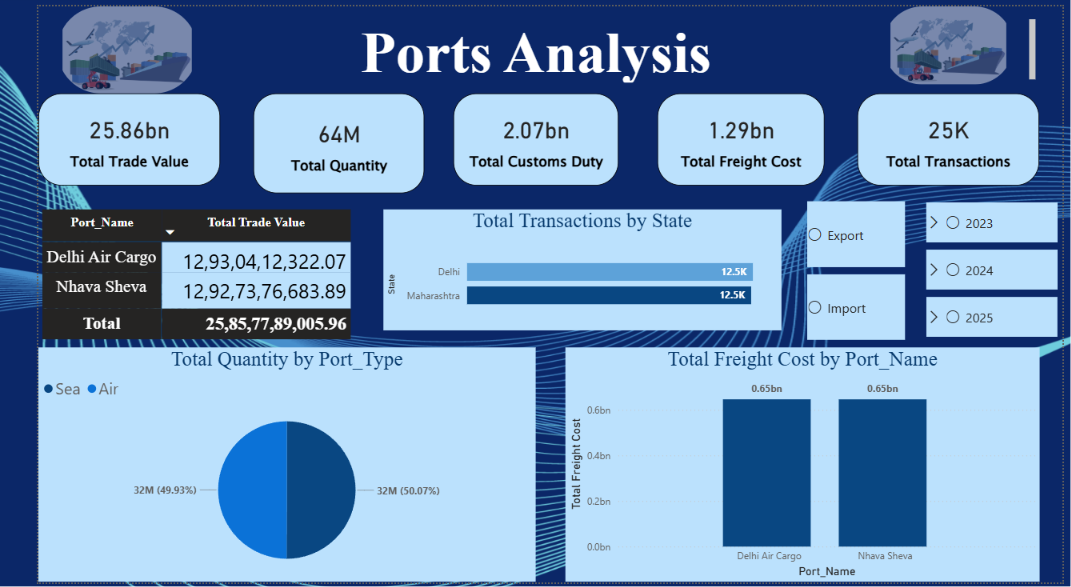

Layout of this report page (visuals, bound fields, positions):
{"tool":"powerbi","page":{"name":"Ports Analysis","canvas":[1280,720],"ordinal":4},"visuals":[{"type":"card","fields":{"Values":["Companies.Total Trade Value"]},"box":[0,108.8,227.4,114.9],"z":0},{"type":"card","fields":{"Values":["Companies.Total Quantity"]},"box":[269,108.8,214,124.7],"z":1000},{"type":"card","fields":{"Values":["Companies.Total Customs Duty"]},"box":[518.5,108.8,206.7,114.9],"z":2000},{"type":"card","fields":{"Values":["Companies.Total Freight Cost"]},"box":[774.1,108.8,209.1,114.9],"z":3000},{"type":"card","fields":{"Values":["Companies.Total Transactions"]},"box":[1023.5,108.8,227.4,114.9],"z":4000},{"type":"textbox","box":[0,11.2,1251.2,88.8],"z":5000},{"type":"pivotTable","fields":{"Rows":["Ports.Port_Name"],"Values":["Companies.Total Trade Value"]},"box":[0,233.8,412.5,192.5],"z":6000},{"type":"pieChart","fields":{"Category":["Ports.Port_Type"],"Y":["Companies.Total Quantity"]},"box":[0,426.7,621.5,293],"z":7000},{"type":"clusteredBarChart","fields":{"Category":["Ports.State"],"Y":["Companies.Total Transactions"]},"box":[431.2,253.8,497.5,151.2],"z":8000},{"type":"columnChart","fields":{"Category":["Ports.Port_Name"],"Y":["Companies.Total Freight Cost"]},"box":[658.5,426.7,593.1,293],"z":9000},{"type":"listSlicer","fields":{"Values":["Trade_Transactions_25000.Trade_Date.Variation.Date Hierarchy.Year","Trade_Transactions_25000.Trade_Date.Variation.Date Hierarchy.Quarter","Trade_Transactions_25000.Trade_Date.Variation.Date Hierarchy.Month","Trade_Transactions_25000.Trade_Date.Variation.Date Hierarchy.Day"]},"box":[1105.2,225.1,174.6,210.6],"z":10000},{"type":"listSlicer","fields":{"Values":["Trade_Transactions_25000.Trade_Type"]},"box":[956.6,223.6,132.7,215],"z":11000},{"type":"image","box":[23.8,0,175,108.8],"z":11001},{"type":"image","box":[1056.2,0,162.5,97.5],"z":11002}]}

Visuals, with their boxes in screenshot pixels (x1, y1, x2, y2), scaled from the page's 1280x720 canvas onto the 1071x587 screenshot:
card - Companies.Total Trade Value: 0 89 190 182
card - Companies.Total Quantity: 225 89 404 190
card - Companies.Total Customs Duty: 434 89 607 182
card - Companies.Total Freight Cost: 648 89 823 182
card - Companies.Total Transactions: 856 89 1047 182
textbox: 0 9 1047 82
pivotTable - Ports.Port_Name x Companies.Total Trade Value: 0 191 345 348
pieChart - Ports.Port_Type x Companies.Total Quantity: 0 348 520 586
clusteredBarChart - Ports.State x Companies.Total Transactions: 361 207 777 330
columnChart - Ports.Port_Name x Companies.Total Freight Cost: 551 348 1047 586
listSlicer - Trade_Transactions_25000.Trade_Date.Variation.Date Hierarchy.Year x Trade_Transactions_25000.Trade_Date.Variation.Date Hierarchy.Quarter: 925 184 1070 355
listSlicer - Trade_Transactions_25000.Trade_Type: 800 182 911 358
image: 20 0 166 89
image: 884 0 1020 79
